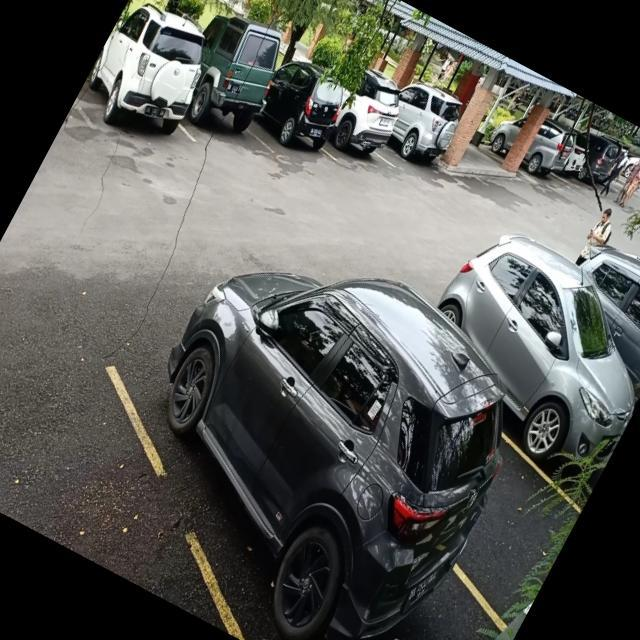occupied: (86, 252, 528, 640), (471, 320, 640, 503), (68, 6, 218, 162), (174, 31, 289, 165), (246, 71, 346, 174), (320, 76, 410, 180)
